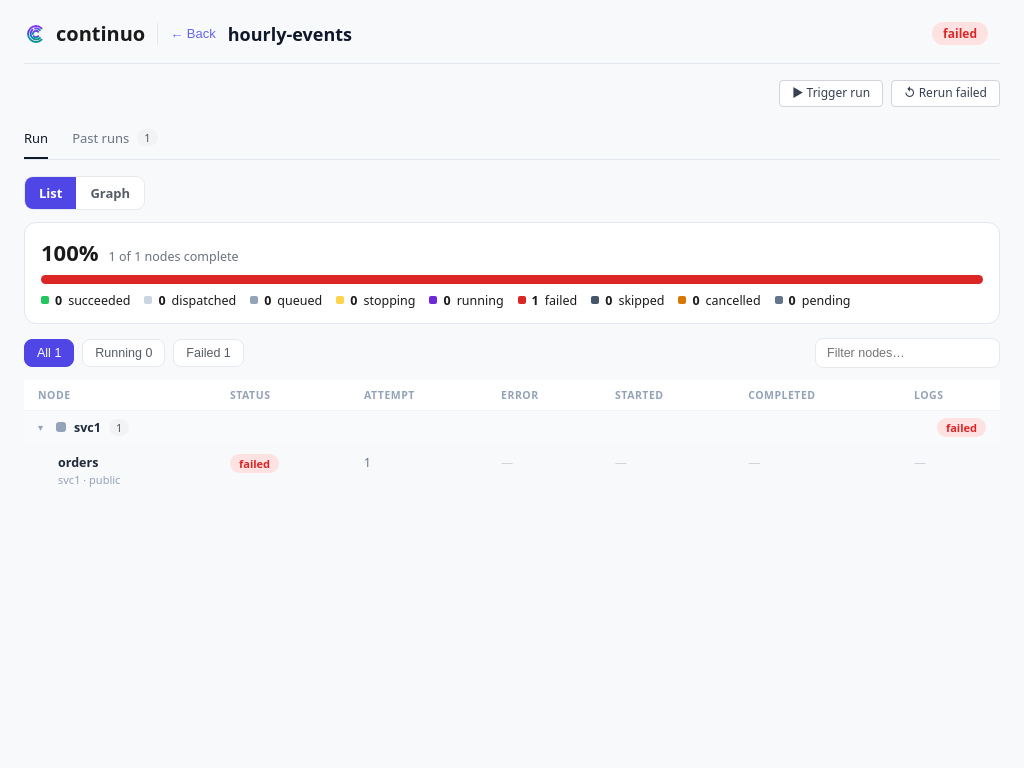
Scenario: DetailPage — historical run attempts › shows the attempts of a historical run
Expected: the text "orders" is shown, x1=58 y1=454 x2=98 y2=471
Click the tab "Past runs 1": (115, 138) x1=72 y1=129 x2=158 y2=147
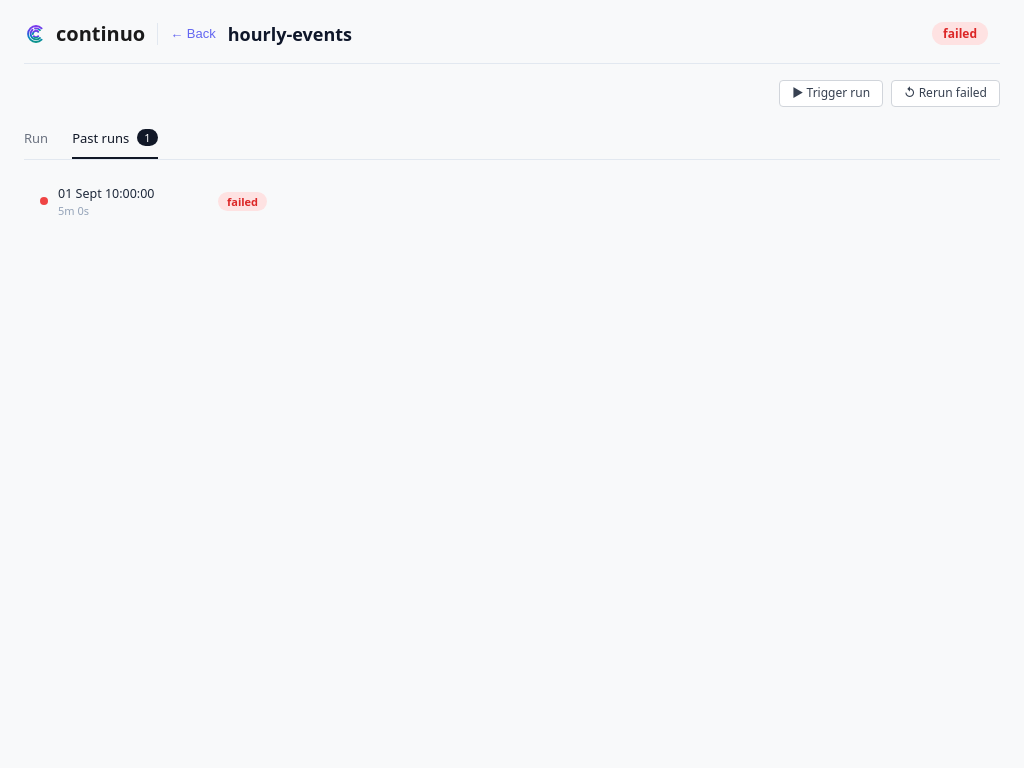
Now the number of buttons with class "run-row" is 1
Click the button with class "run-row": (106, 193) x1=24 y1=176 x2=1000 y2=227
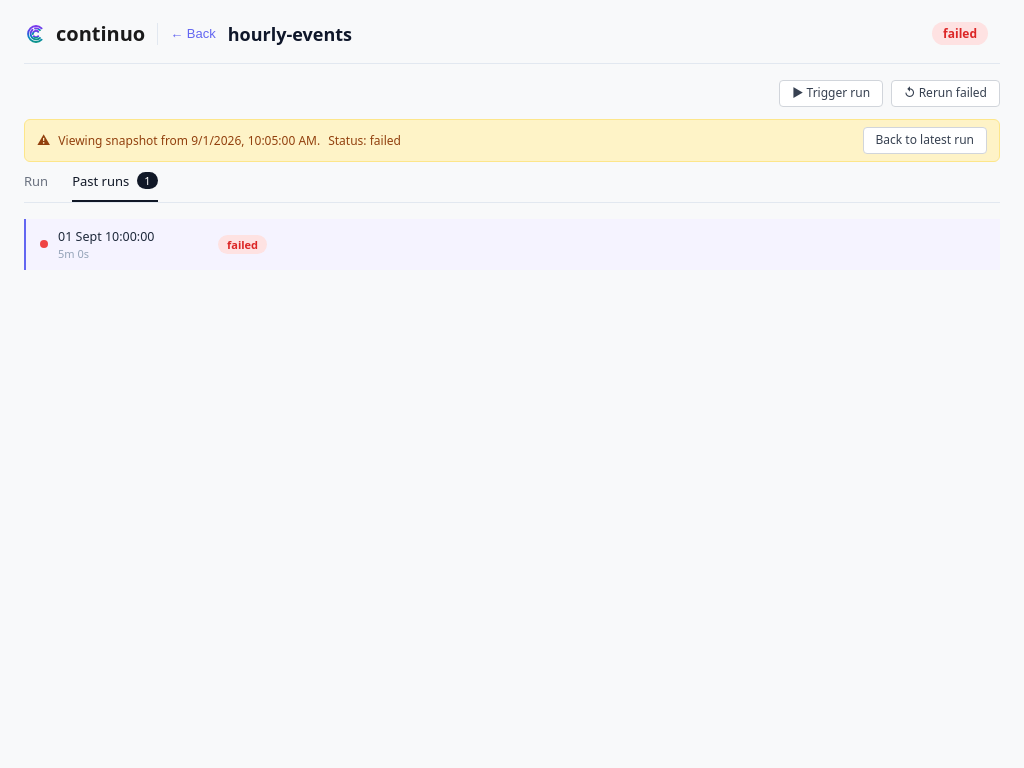
Click the tab "Run": (36, 181) x1=24 y1=172 x2=48 y2=190
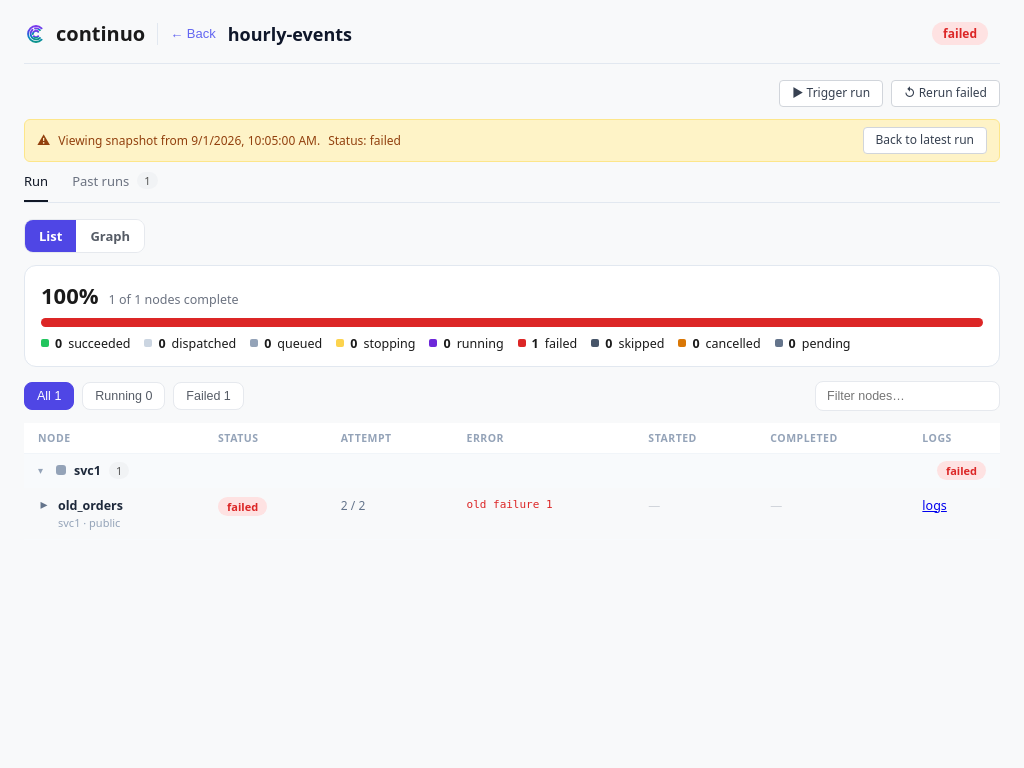
Now the text with class "nodes-attempt" reads "2 / 2", box x1=341 y1=497 x2=365 y2=514
Click the button "old_orders": (512, 513) x1=24 y1=487 x2=1000 y2=539
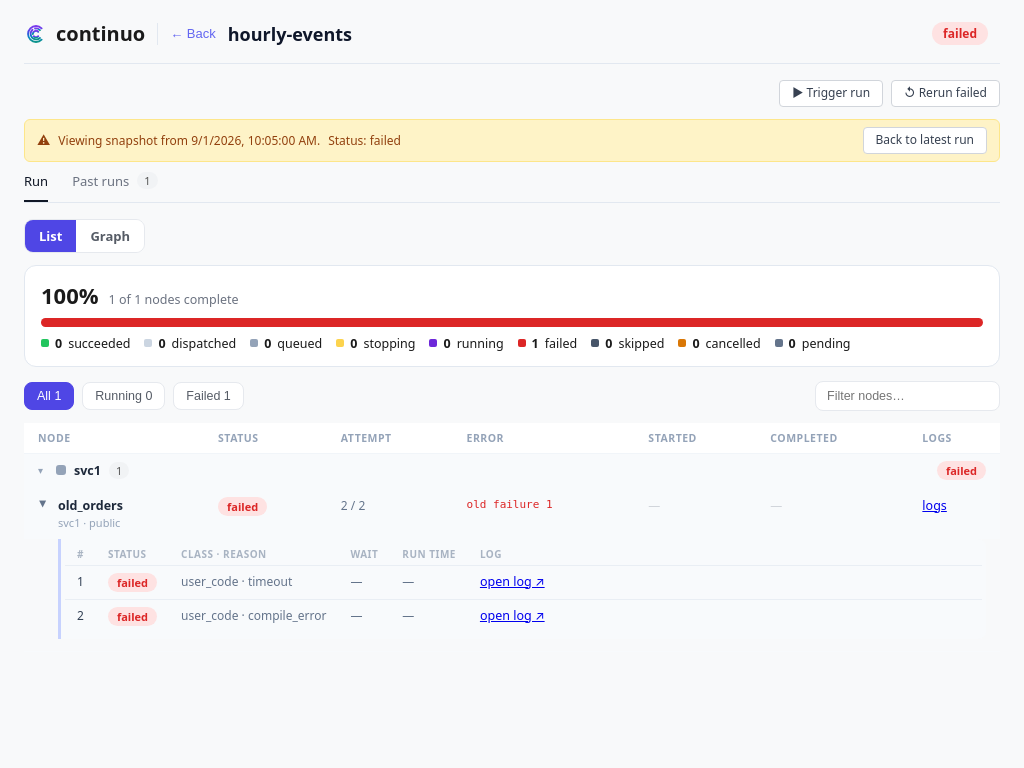
Now the element with class "remediation-attempts" is shown, box x1=58 y1=539 x2=986 y2=639
Now the text "user_code · compile_error" is shown, box x1=181 y1=607 x2=326 y2=624
